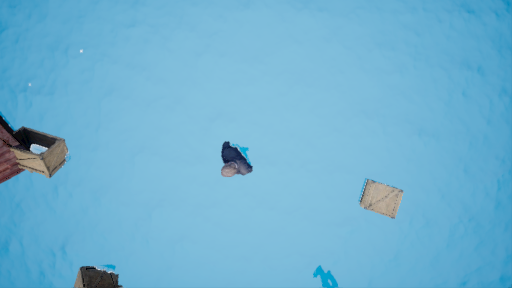person: (213, 138, 270, 194)
